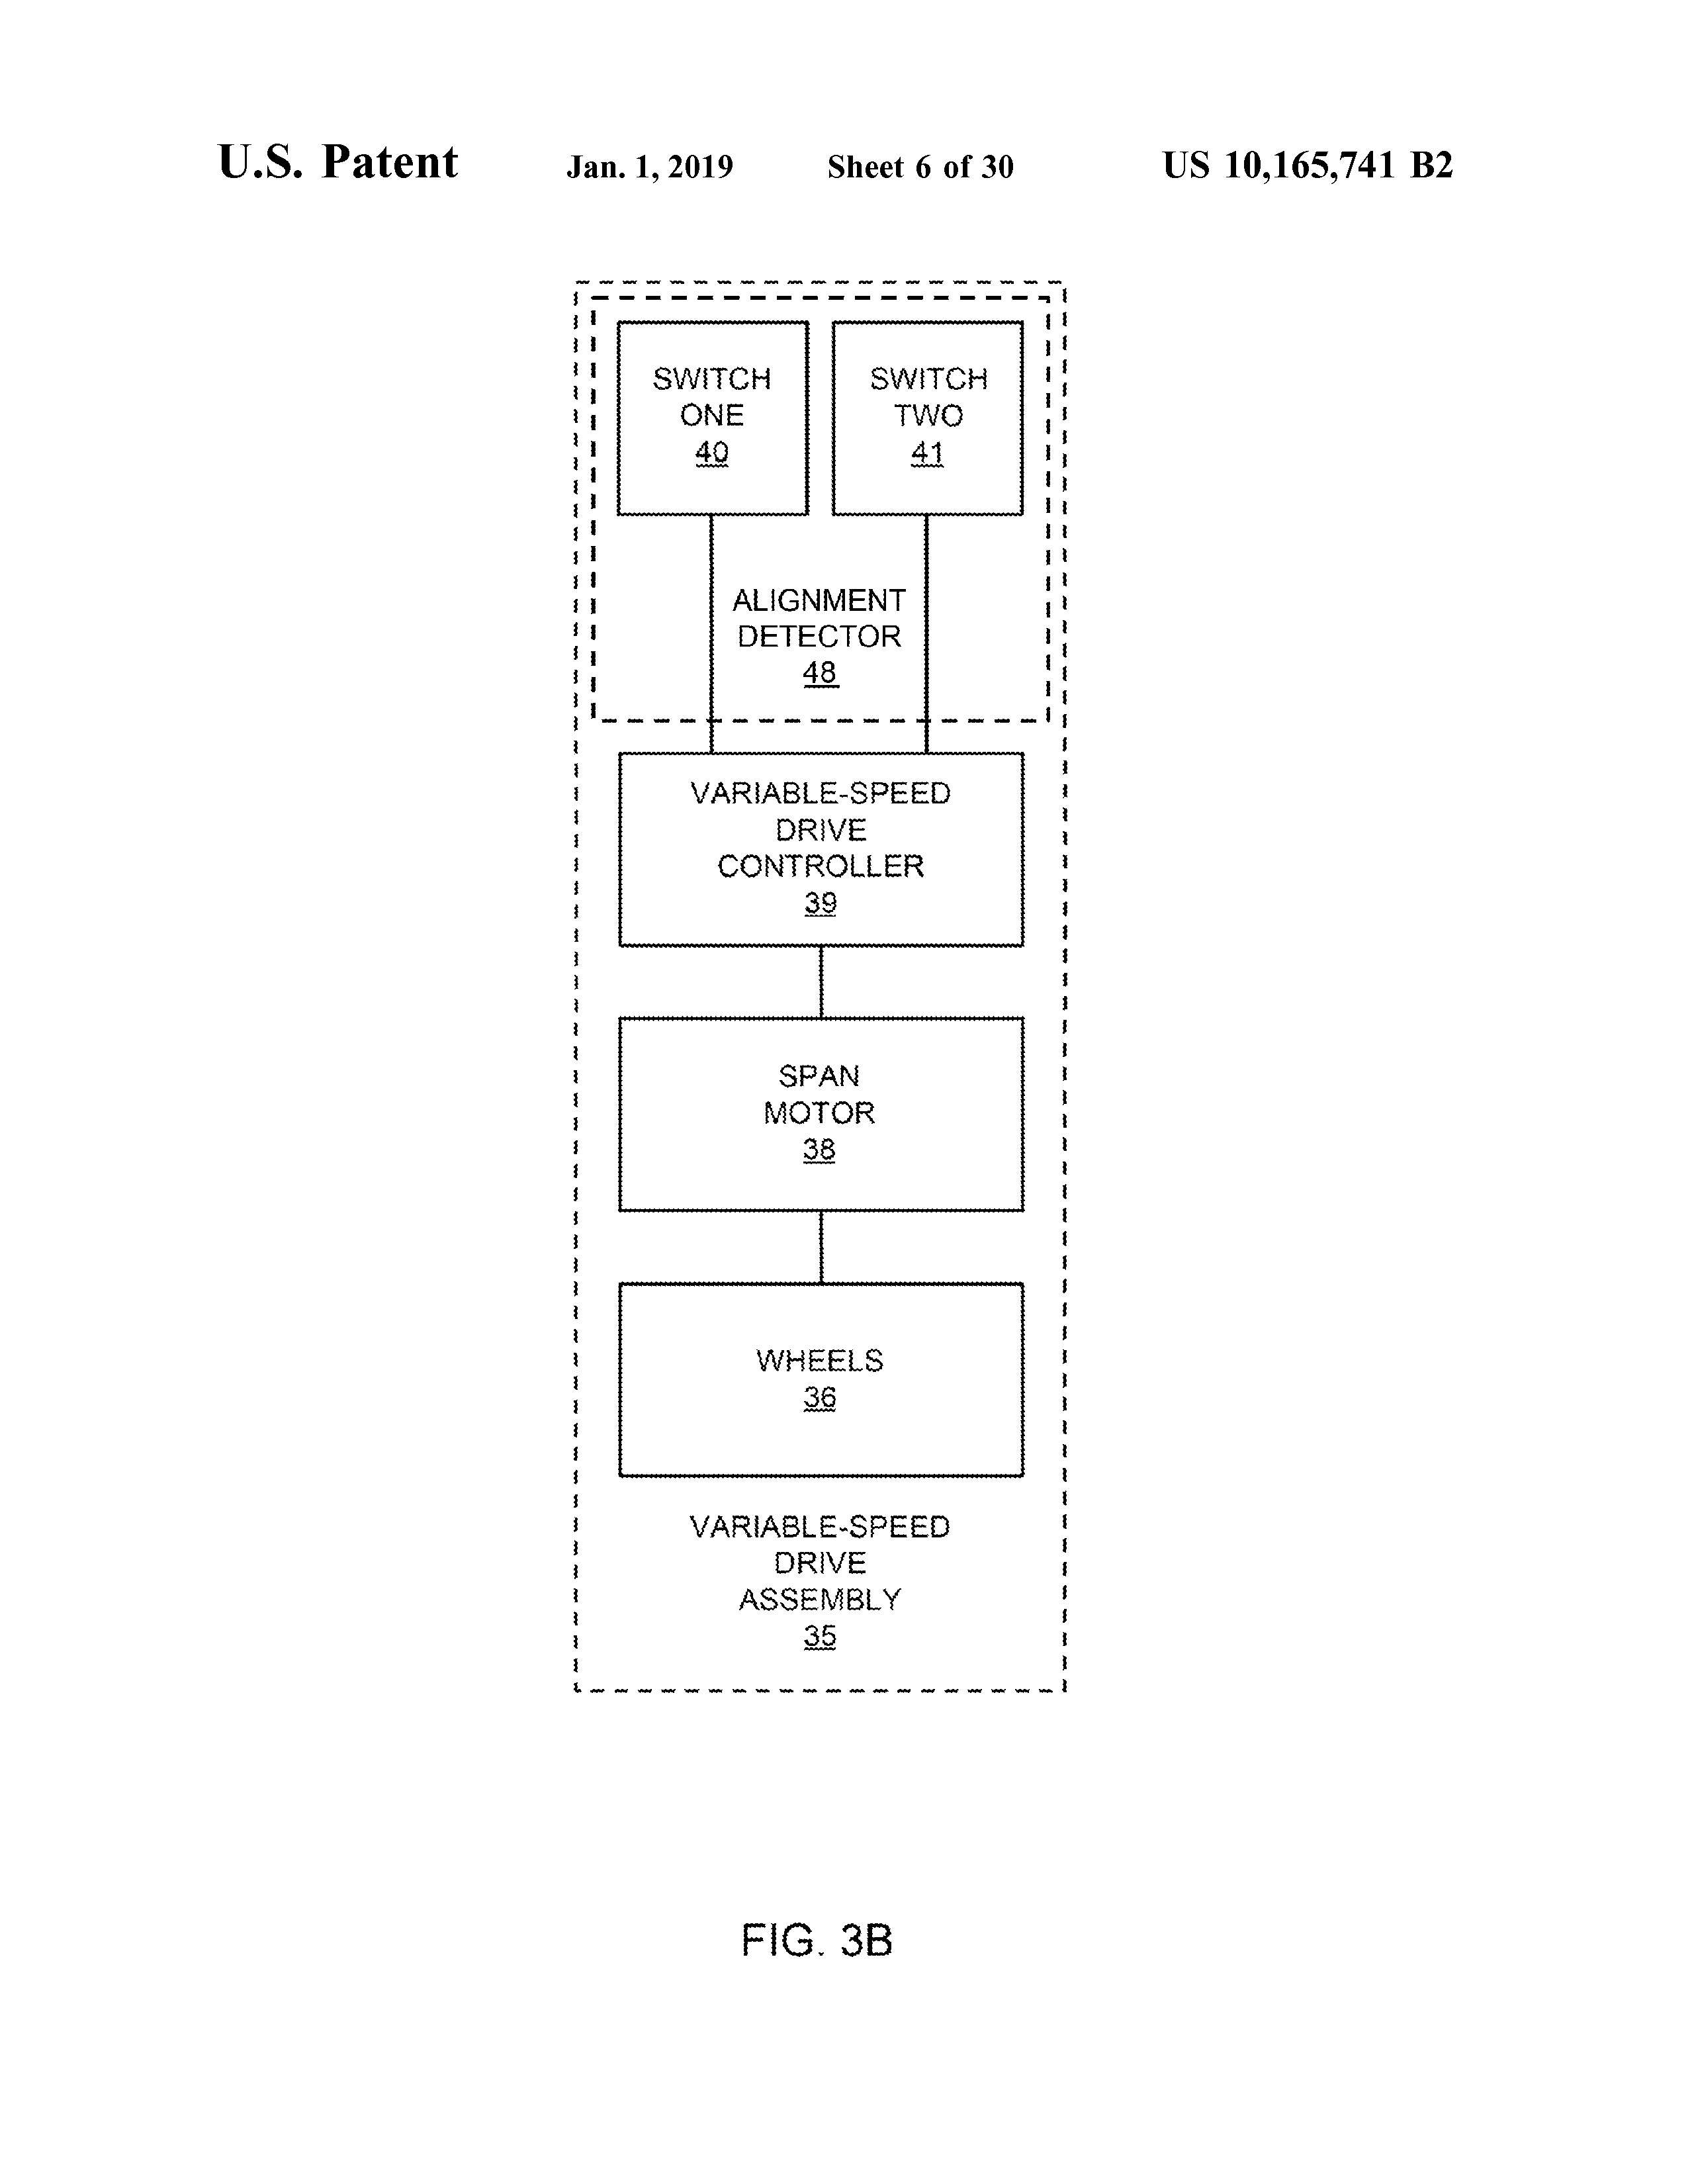patent image: (545, 234, 1099, 2038)
